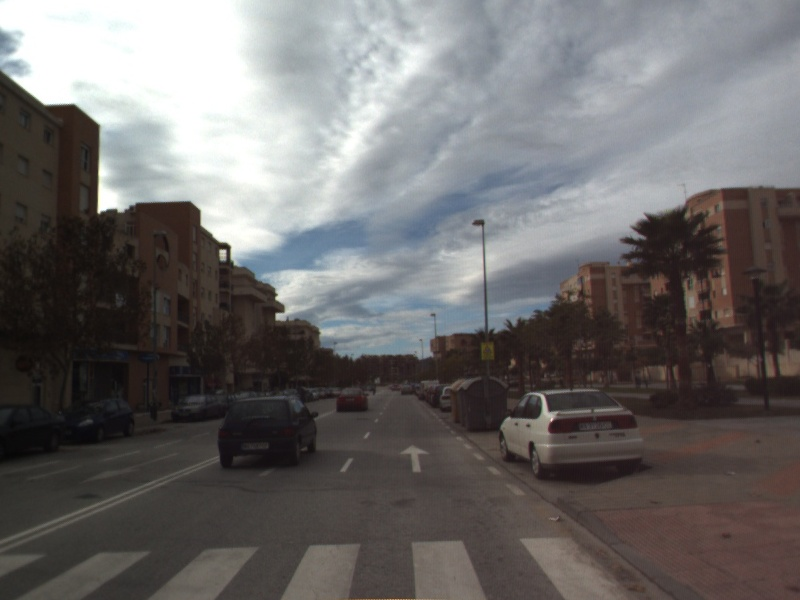STRAIGHT: (397, 442, 432, 474)
